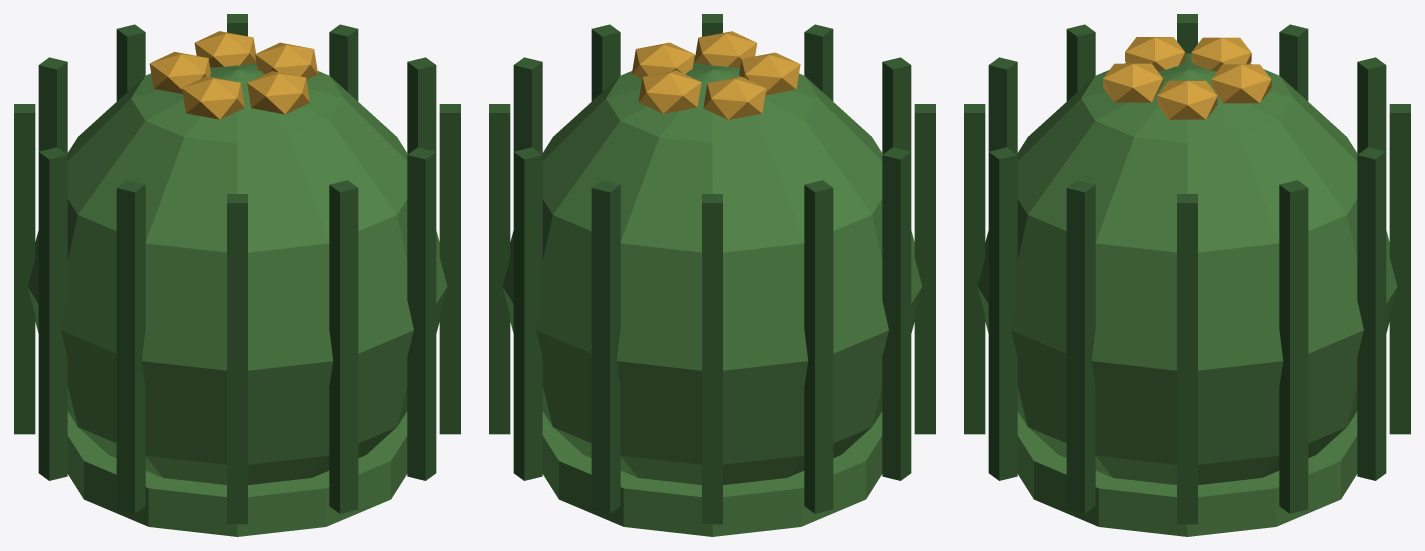
File: SM_Cactus_Barrel.obj
3 views of the same model, side by side, from view 1: azimuth 30°, elevation 25°; view 2: azimuth 150°, elevation 25°; view 3: azimuth 270°, elevation 25° (orthographic).
Visible parts, largest first — view 1: SM_Cactus_Barrel; view 2: SM_Cactus_Barrel; view 3: SM_Cactus_Barrel.
Part boxes in pixels (<box>): SM_Cactus_Barrel: <box>14,14,460,536</box>; SM_Cactus_Barrel: <box>489,14,935,536</box>; SM_Cactus_Barrel: <box>964,14,1410,536</box>.
Bounding box in the file's own units: 0.63 × 0.68 × 0.63.
